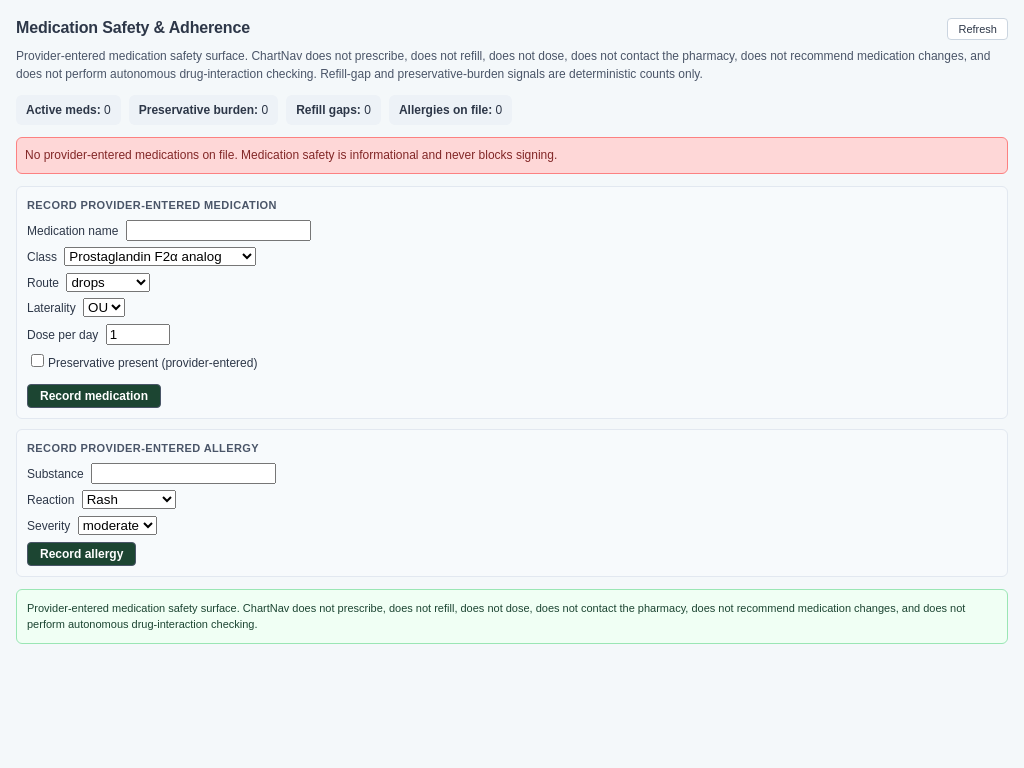
Test: MedicationSafetyPanel — form interactions › POSTs medication payload and refetches on success
expect the text with test id "medication-empty" is shown: met, box [16, 137, 1008, 174]
In the field with test id "medication-name-input": (218, 230) [126, 220, 311, 241], type "Latanoprost 0.005% drops"
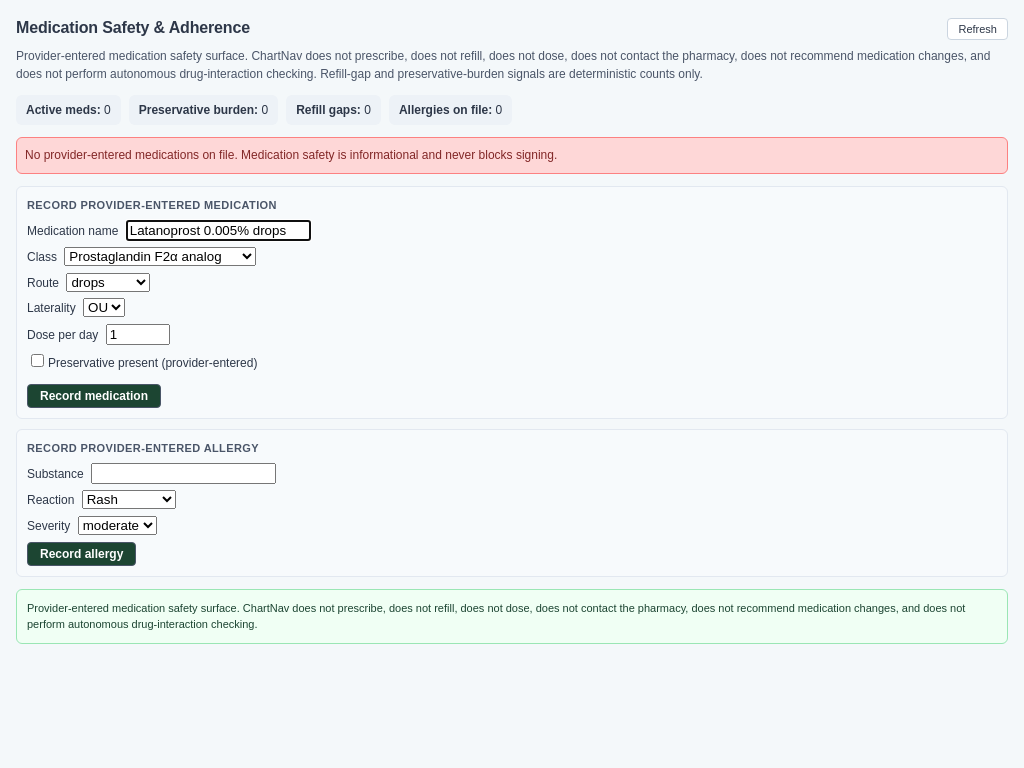
Click the button with test id "medication-submit-btn": (94, 396) [27, 384, 161, 408]
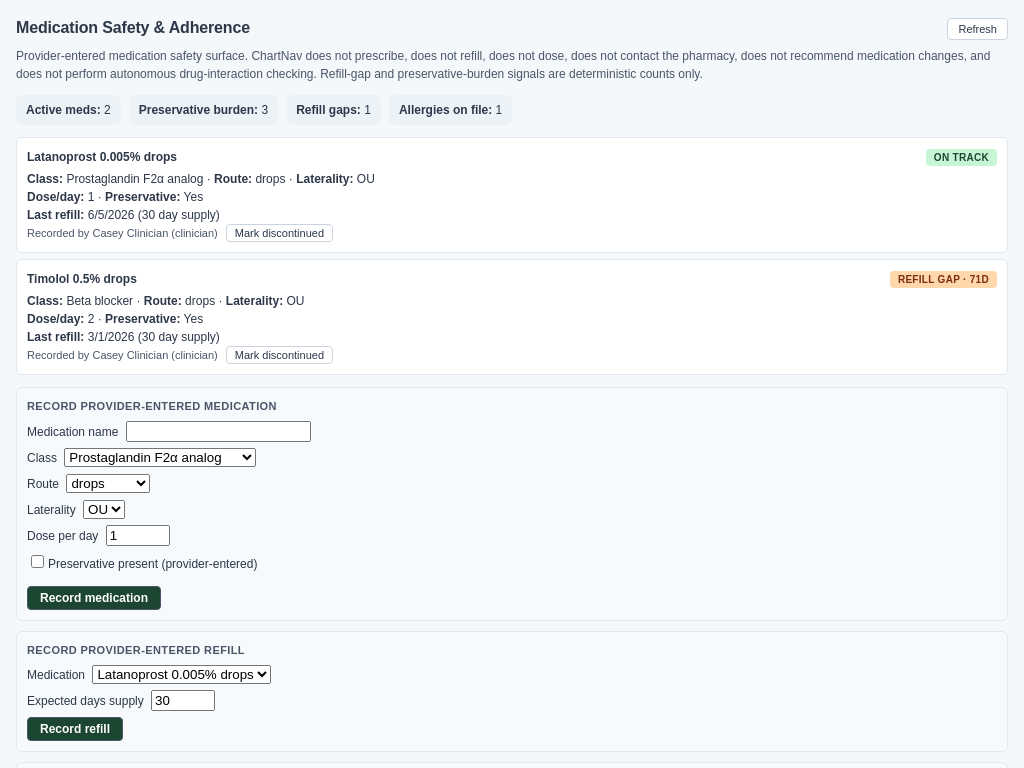
expect the text "Latanoprost 0.005% drops" is shown: met, box [27, 148, 177, 166]
